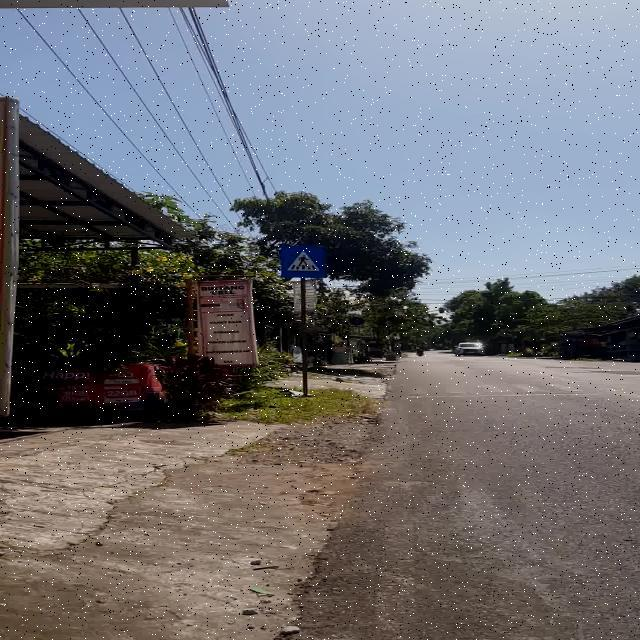Perintah Jalur Penyebrangan: (282, 245, 328, 278)
